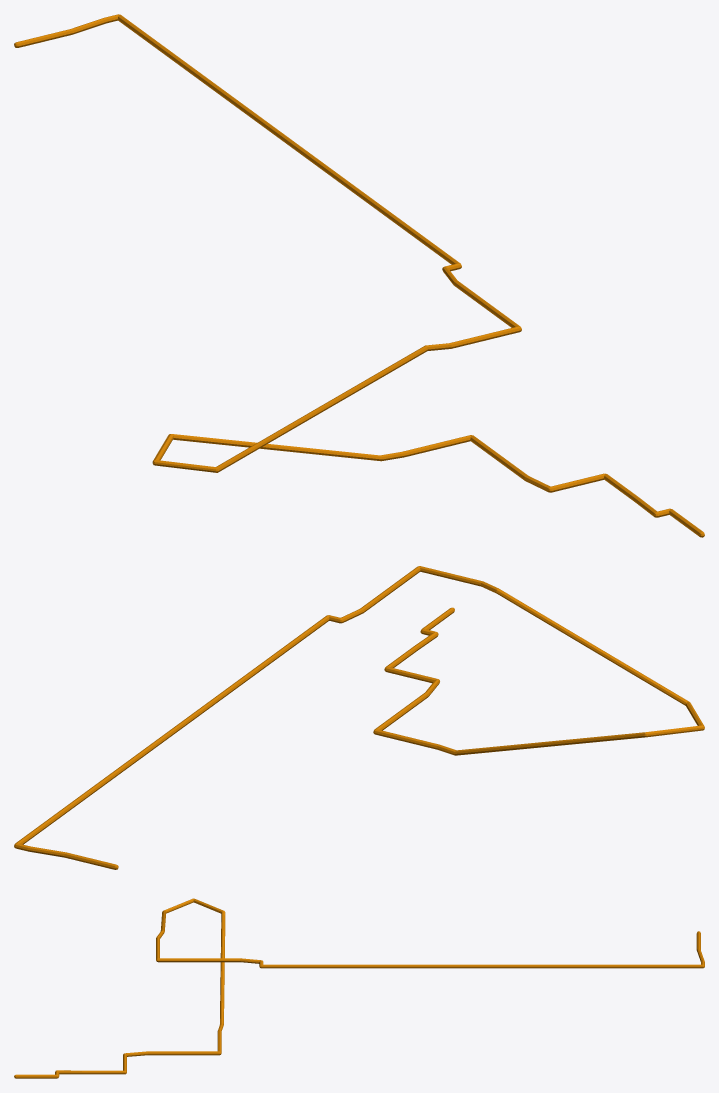
The picture shows the model from 3 angles, top to bottom: view 1: azimuth 30°, elevation 25°; view 2: azimuth 150°, elevation 25°; view 3: azimuth 270°, elevation 25°; orthographic projection. The views are drawn at different scales.
Bounding box in the file's own units: 1515 × 520 × 3365.
